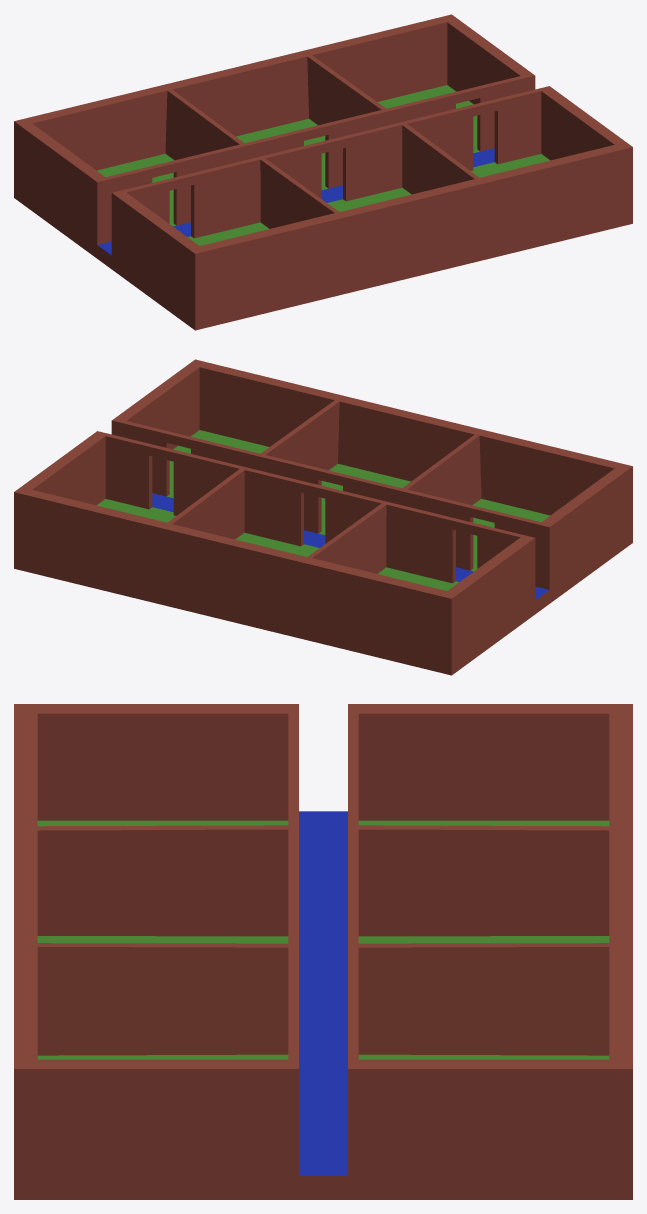
File: BedHouse.fbx
The picture shows the model from 3 angles, top to bottom: view 1: azimuth 30°, elevation 25°; view 2: azimuth 150°, elevation 25°; view 3: azimuth 270°, elevation 25°; orthographic projection. The views are drawn at different scales.
Visible parts, largest first — view 1: BedRoomHouse; view 2: BedRoomHouse; view 3: BedRoomHouse.
Part boxes in pixels (box(x1,y1,x2,y2)): BedRoomHouse: box(14, 14, 632, 330); BedRoomHouse: box(14, 359, 632, 675); BedRoomHouse: box(14, 704, 632, 1199).
Bounding box in the file's own units: 4528 × 758 × 3247.
